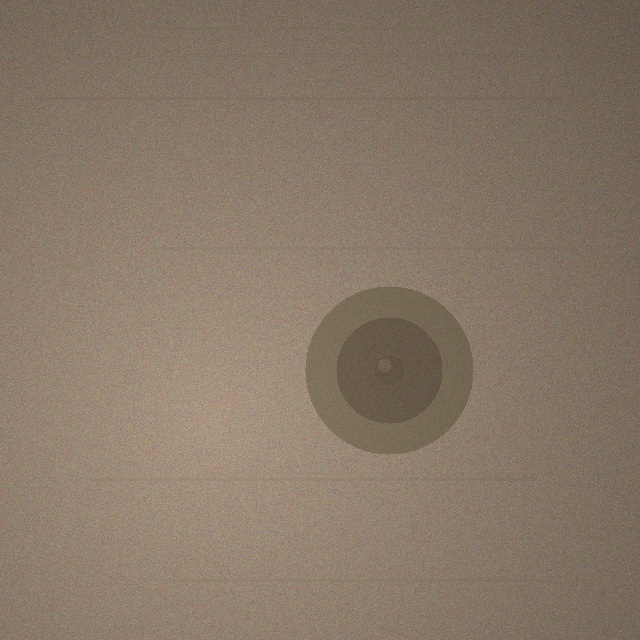good: (305, 286, 473, 454)
